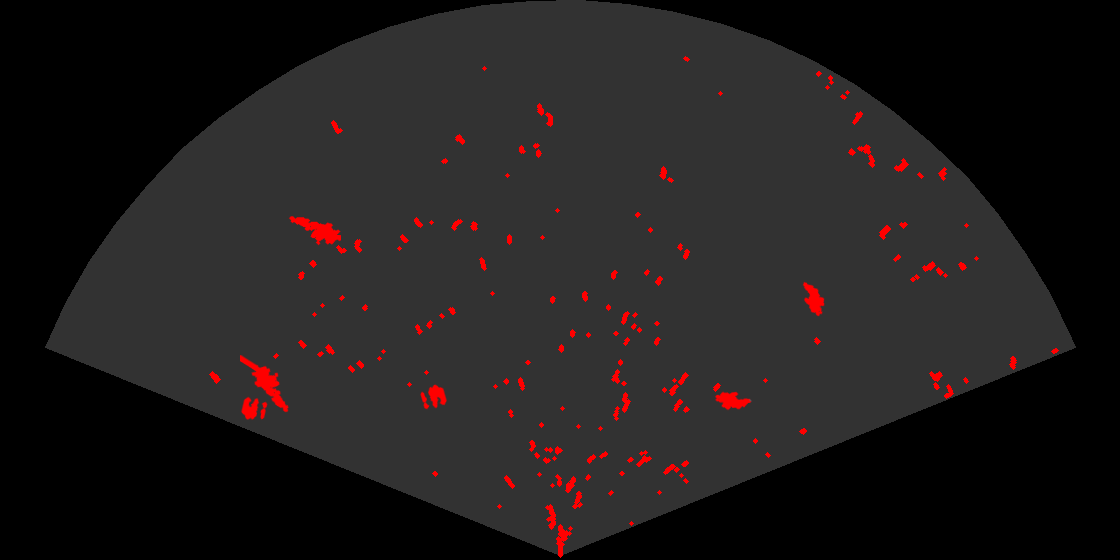AUV: (801, 280, 826, 318), (713, 390, 753, 412)
ball: (419, 383, 448, 411), (240, 395, 269, 421)
frogman: (240, 355, 290, 414), (287, 215, 341, 247)
